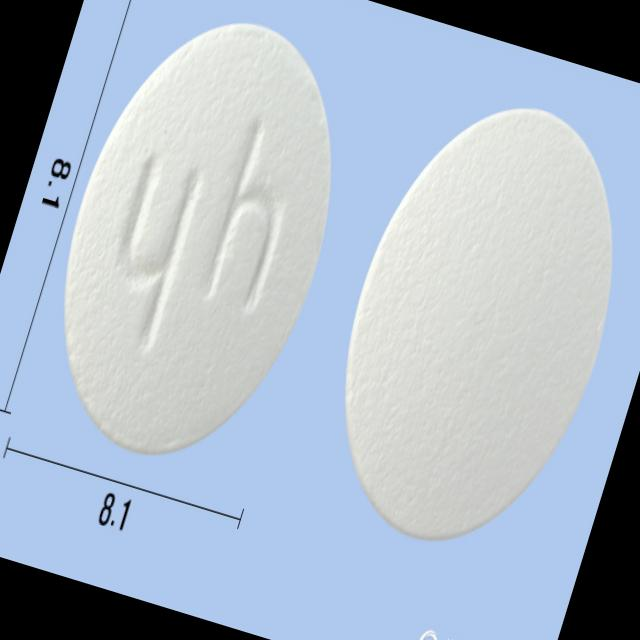Levomicin: (15, 0, 382, 487)
